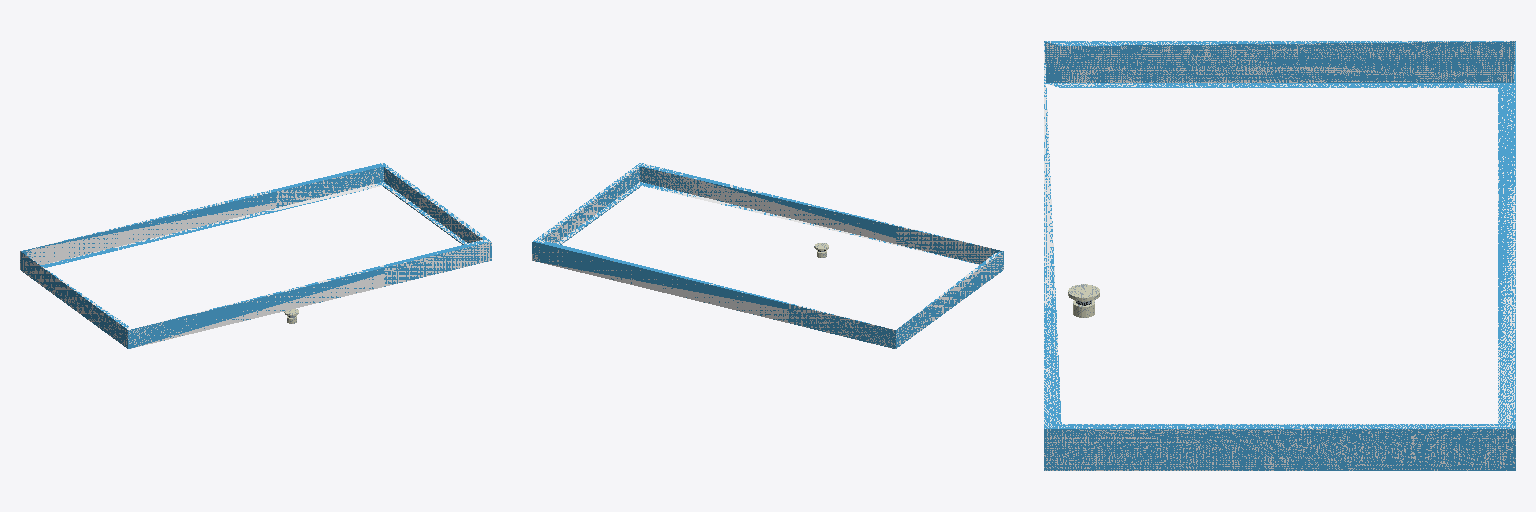
The robot description file, URDF, robot "right-pull-door":
<?xml version="1.0" ?>
<robot name="right-pull-door">
	<link name="base"/>
	<link name="link_0">
		<visual name="out-frame">
			<origin xyz="0 0 0"/>
			<geometry>
				<mesh filename="texture_dae/frame.dae" scale="1.024851127275158 1.024851127275158 1.024851127275158"/>
			</geometry>
		</visual>
		<collision>
			<origin xyz="0 0 0"/>
			<geometry>
				<mesh filename="texture_dae/frame.dae" scale="1.024851127275158 1.024851127275158 1.024851127275158"/>
			</geometry>
		</collision>
	</link>
	<joint name="joint_0" type="fixed">
		<origin rpy="1.570796326794897 0 -1.570796326794897" xyz="0 0 0"/>
		<child link="link_0"/>
		<parent link="base"/>
	</joint>
	<link name="link_1">
		<visual name="surf-board">
			<origin xyz="0.47326599738277275 -0.9240887988804775 0"/>
			<geometry>
				<mesh filename="texture_dae/board.dae" scale="1.024851127275158 1.024851127275158 1.024851127275158"/>
			</geometry>
		</visual>
		<collision>
			<origin xyz="0.47326599738277275 -0.9240887988804775 0"/>
			<geometry>
				<mesh filename="texture_dae/board.dae" scale="1.024851127275158 1.024851127275158 1.024851127275158"/>
			</geometry>
		</collision>
	</link>
	<joint name="joint_1" type="revolute">
		<origin xyz="-0.47326599738277275 0.9240887988804775 0"/>
		<axis xyz="0 -1 0"/>
		<child link="link_1"/>
		<parent link="link_0"/>
		<limit lower="0" upper="1.5079644737231006"/>
	</joint>
	<link name="link_2">
		<visual name="handle">
			<origin xyz="0 0 0"/>
			<geometry>
				<mesh filename="texture_dae/9962039.dae" scale="1.2942130342378562 1.2942130342378562 1.2942130342378562"/>
			</geometry>
		</visual>
		<collision>
			<origin xyz="0 0 0"/>
			<geometry>
				<mesh filename="texture_dae/9962039.dae" scale="1.2942130342378562 1.2942130342378562 1.2942130342378562"/>
			</geometry>
		</collision>
	</link>
	<joint name="joint_2" type="revolute">
		<origin xyz="0.8689608918199028 -1.0228545654002308 0.0472825586221848"/>
		<child link="link_2"/>
		<parent link="link_1"/>
		<axis xyz="0 0 1"/>
		<limit lower="0" upper="1.5079644737231006"/>
	</joint>
</robot>

--- What the picture shows (computed from the rendered views, not written in the file) ---
The picture shows the robot from 3 angles, left to right: view 1: azimuth 30°, elevation 25°; view 2: azimuth 150°, elevation 25°; view 3: azimuth 270°, elevation 25°; orthographic projection.
Robot: right-pull-door — 4 links, 3 joints (2 revolute, 1 fixed); root link base; default pose: all joints at 0.
Links seen in each view (by area): view 1: link_0; view 2: link_0; view 3: link_0, link_2.
Link boxes in pixels (box(x1,y1,x2,y2)): link_0: box(20, 163, 491, 348); link_0: box(532, 163, 1003, 348); link_0: box(1044, 41, 1515, 470); link_2: box(1068, 284, 1099, 317).
Size in the robot's own frame: 1.85 by 0.949 by 0.1954 metres.
Meshes: 3 distinct files referenced, 2 mesh visuals loaded (2 Collada DAE); not drawn: 1 (reference not matched to a file when rendering).
